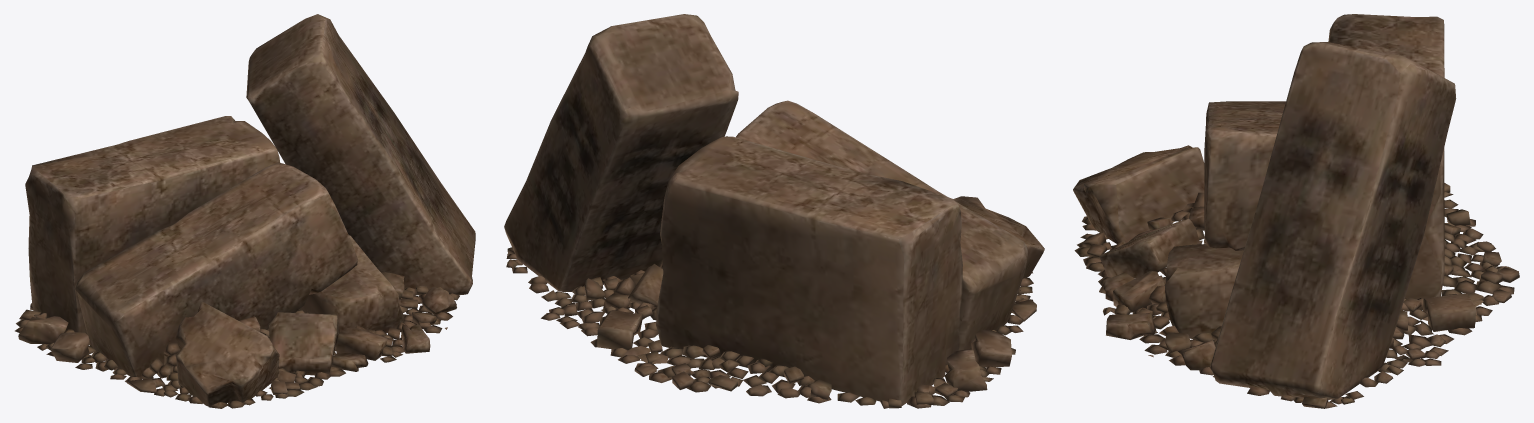
File: shrine-masonry.glb
3 views of the same model, side by side, from view 1: azimuth 30°, elevation 25°; view 2: azimuth 150°, elevation 25°; view 3: azimuth 270°, elevation 25° (orthographic). The views are drawn at different scales.
Size of the model in its own units: 0.9604 by 0.5132 by 0.7256.
1 material, 1 textured.
